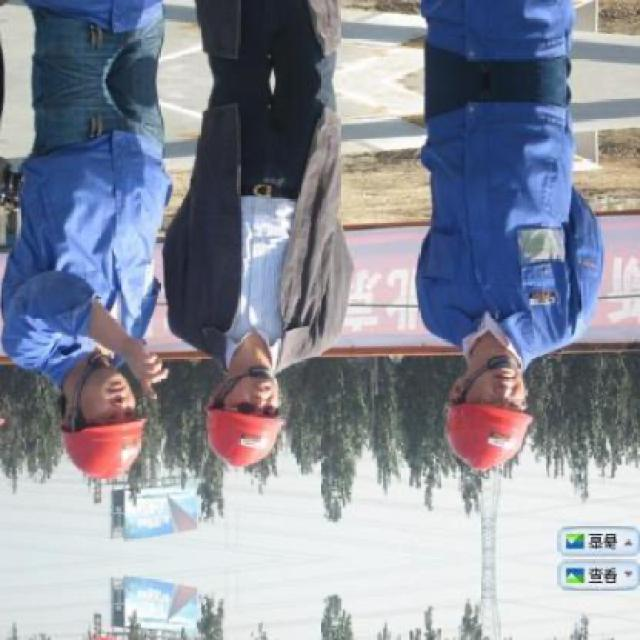con casco: (193, 307, 331, 470), (424, 320, 563, 466), (28, 322, 163, 464)
